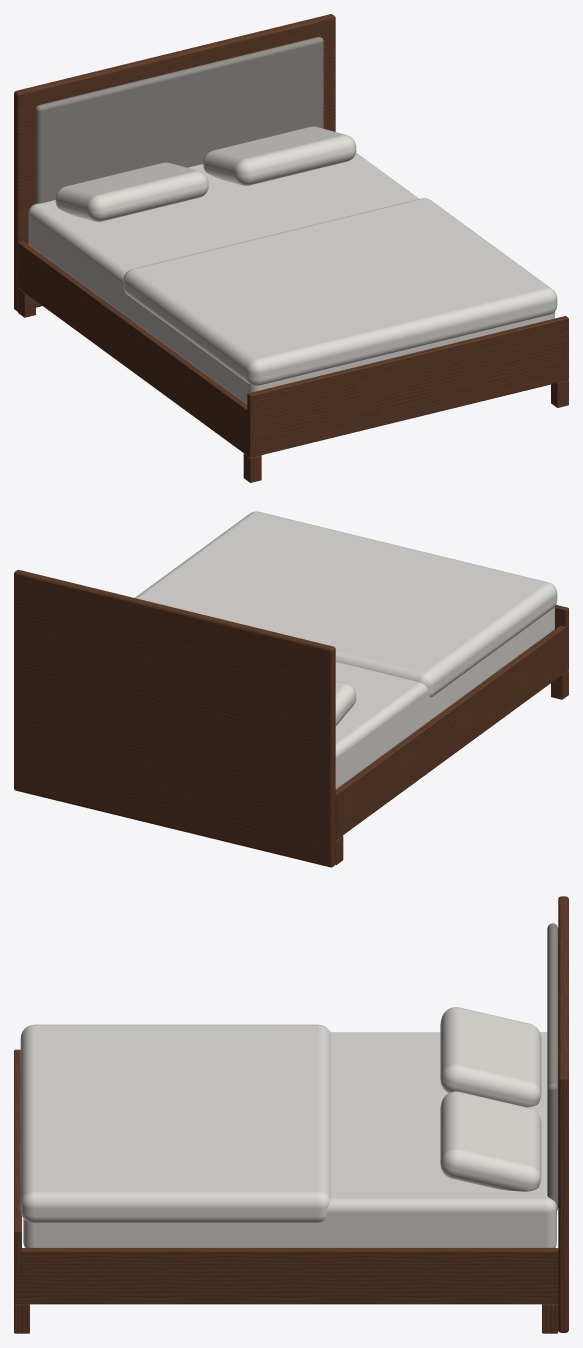
File: bed.glb
3 views of the same model, one above another, from view 1: azimuth 30°, elevation 25°; view 2: azimuth 150°, elevation 25°; view 3: azimuth 270°, elevation 25° (orthographic). The views are drawn at different scales.
Parts seen in each view (by area): view 1: Bedding, Wood, Fabric; view 2: Wood, Bedding; view 3: Bedding, Wood, Fabric.
Boxes of the visible parts, box(x1,y1,x2,y2) form: Bedding: box(28, 126, 557, 404); Wood: box(14, 14, 568, 482); Fabric: box(35, 37, 323, 203); Wood: box(14, 570, 568, 867); Bedding: box(135, 511, 557, 789); Bedding: box(20, 1007, 556, 1247); Wood: box(14, 896, 568, 1333); Fabric: box(547, 923, 558, 1210).
Bounding box in the file's own units: 1.6 × 1.05 × 2.06.
3 materials, 1 textured.
